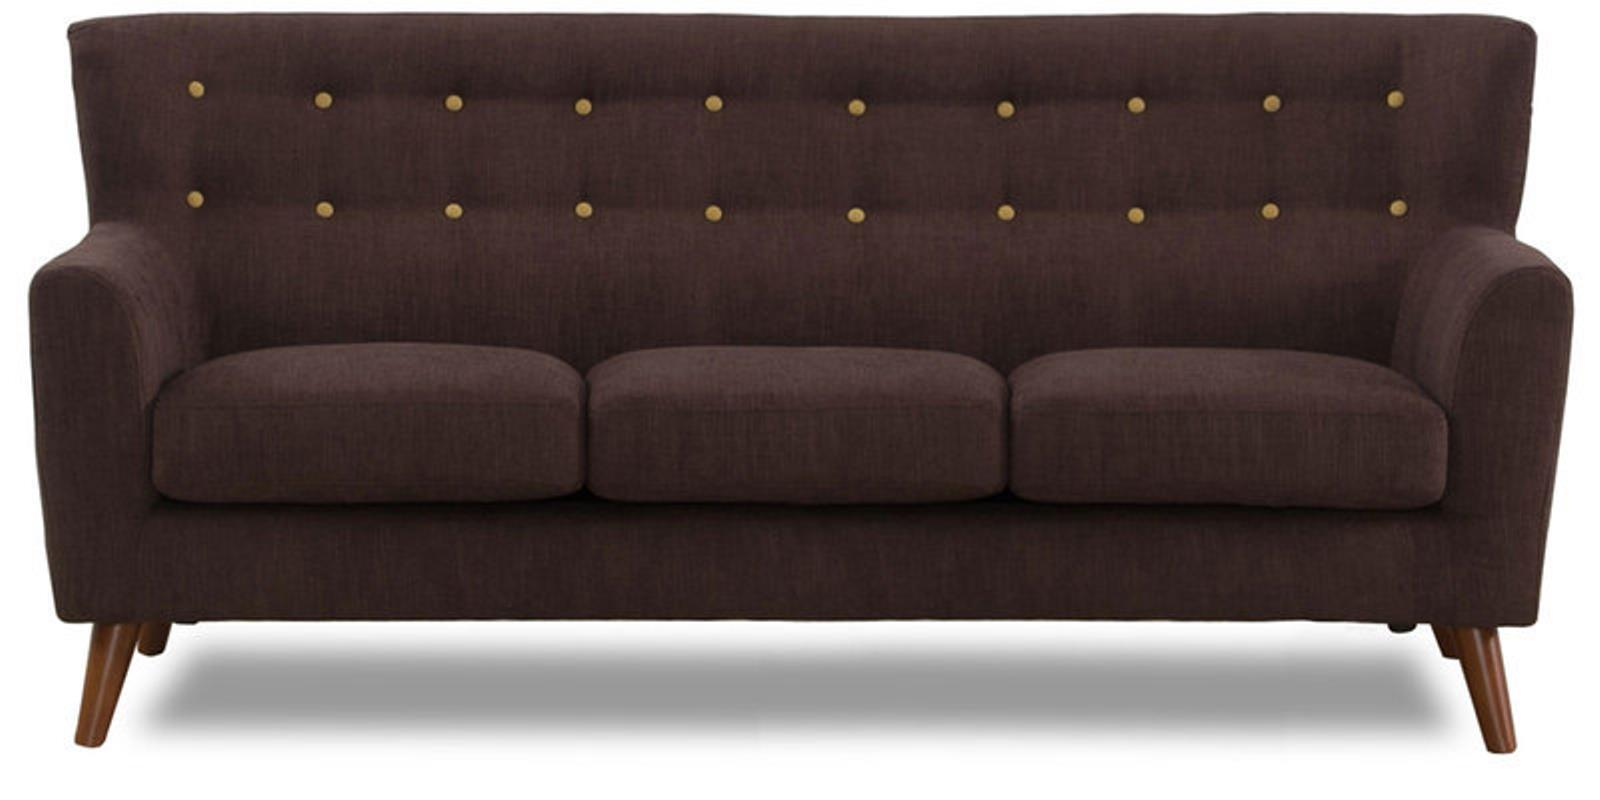Havana Three Seater Sofa in Dark Brown Colour by CasaCraft: (22, 6, 1592, 800)
